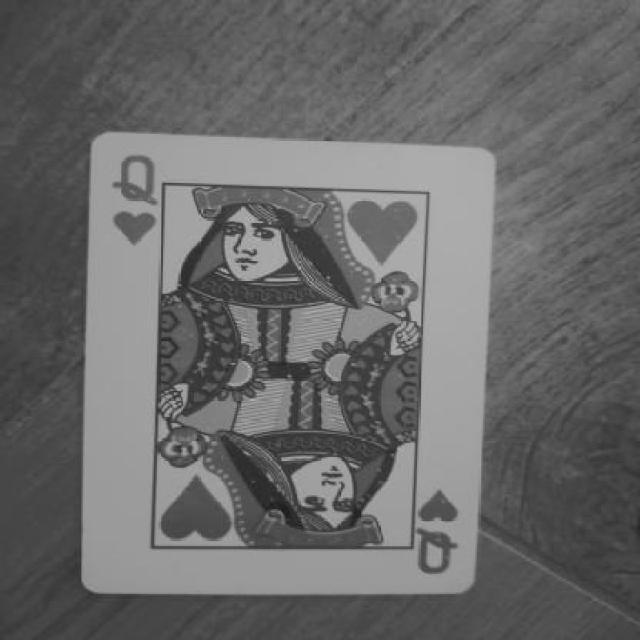QH: (391, 483, 478, 591), (106, 139, 176, 250)
